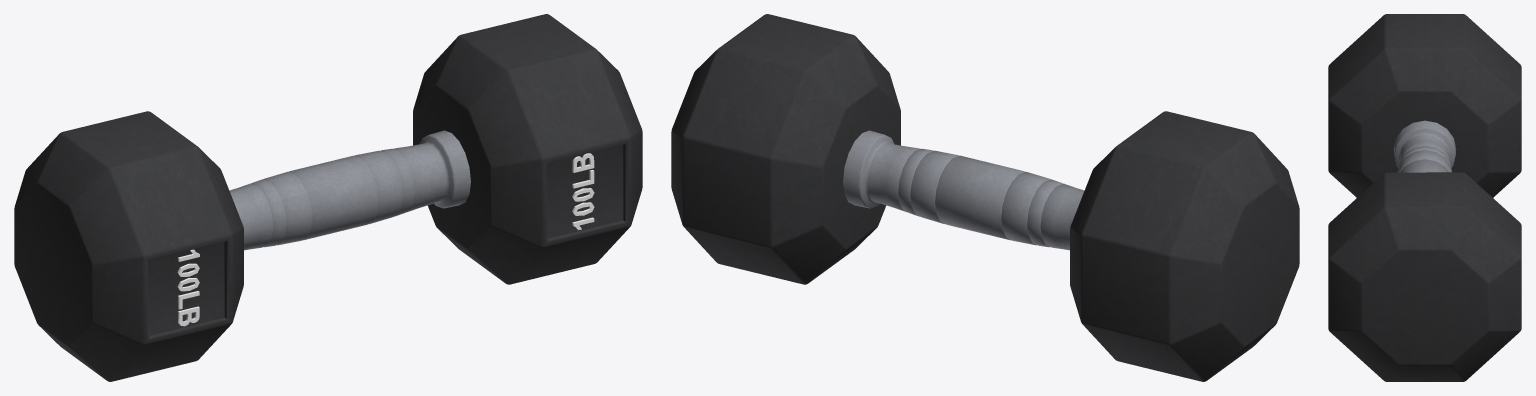
File: realbell.glb
The picture shows the model from 3 angles, left to right: view 1: azimuth 30°, elevation 25°; view 2: azimuth 150°, elevation 25°; view 3: azimuth 270°, elevation 25°; orthographic projection. The views are drawn at different scales.
Parts seen in each view (by area): view 1: Object_2; view 2: Object_2; view 3: Object_2.
Part boxes in pixels (x1,y1,x2,y2): Object_2: (14, 14, 642, 381); Object_2: (671, 14, 1299, 381); Object_2: (1328, 14, 1521, 381).
Bounding box in the file's own units: 7.36 × 2.75 × 2.75.
1 material, 1 textured.
